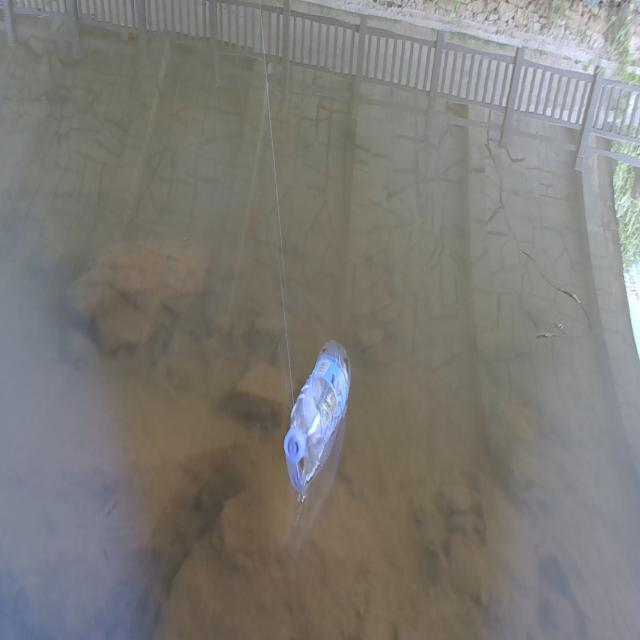garbage: (283, 338, 352, 496)
